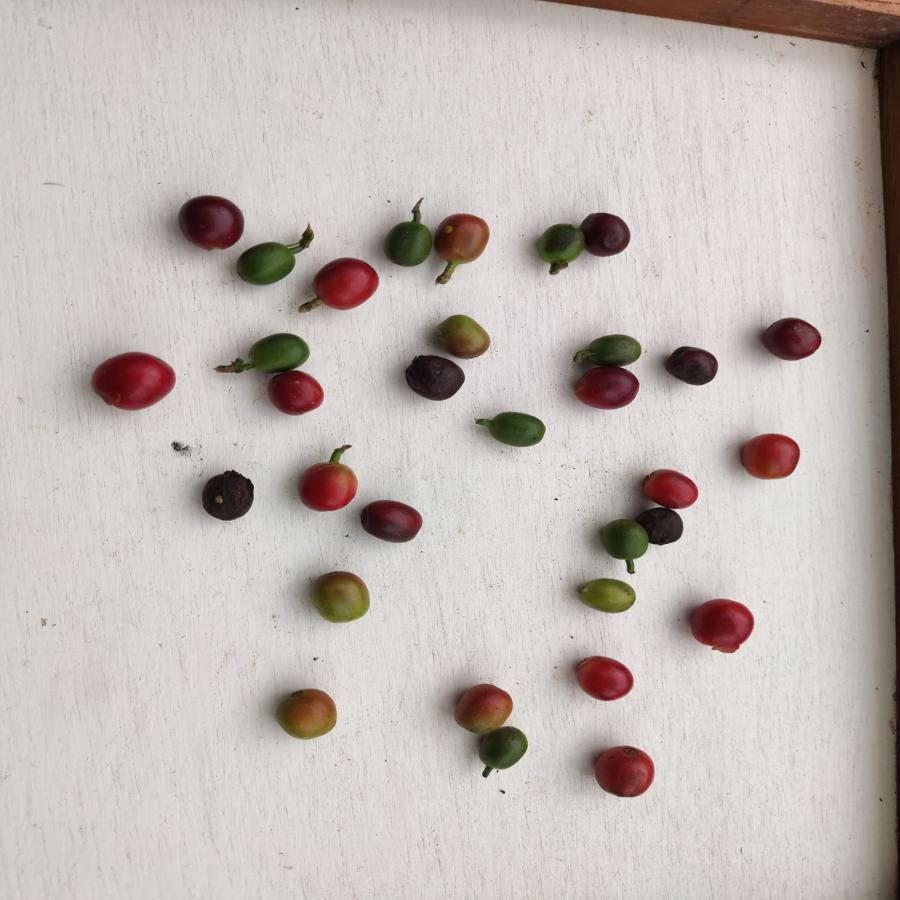Inmaduro: (485, 407, 551, 451), (235, 239, 296, 286), (245, 329, 312, 368), (475, 727, 529, 774), (579, 332, 645, 369), (597, 519, 650, 562), (382, 219, 430, 266), (535, 221, 581, 268)
Maduro: (88, 347, 173, 414), (684, 598, 760, 656), (593, 741, 658, 802), (311, 258, 379, 312), (737, 430, 802, 486), (298, 457, 356, 514), (574, 654, 637, 703), (267, 369, 327, 417), (641, 466, 703, 509)
Pinton: (274, 687, 340, 741), (310, 570, 371, 624), (454, 681, 514, 727), (433, 214, 490, 262), (437, 311, 491, 356), (576, 575, 636, 615)
Sobremaduro: (174, 194, 245, 250), (400, 354, 470, 405), (357, 493, 425, 545), (573, 368, 645, 413), (199, 471, 259, 523), (757, 316, 823, 363), (580, 207, 629, 257), (664, 346, 720, 389), (639, 503, 685, 546)
